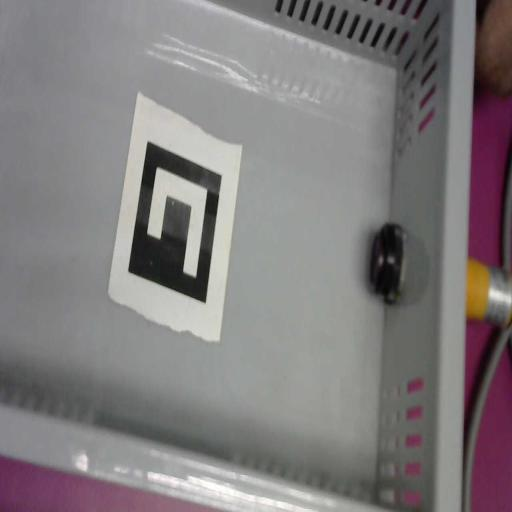QR: (107, 91, 243, 341)
